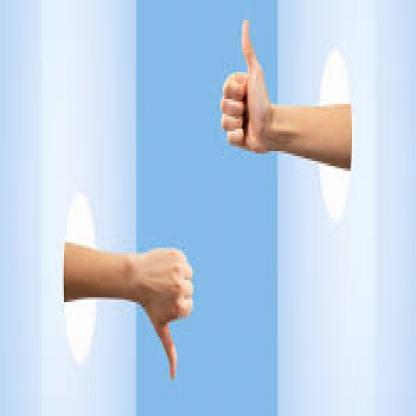thumb_down: (144, 244, 196, 382)
thumb_up: (218, 11, 274, 163)
